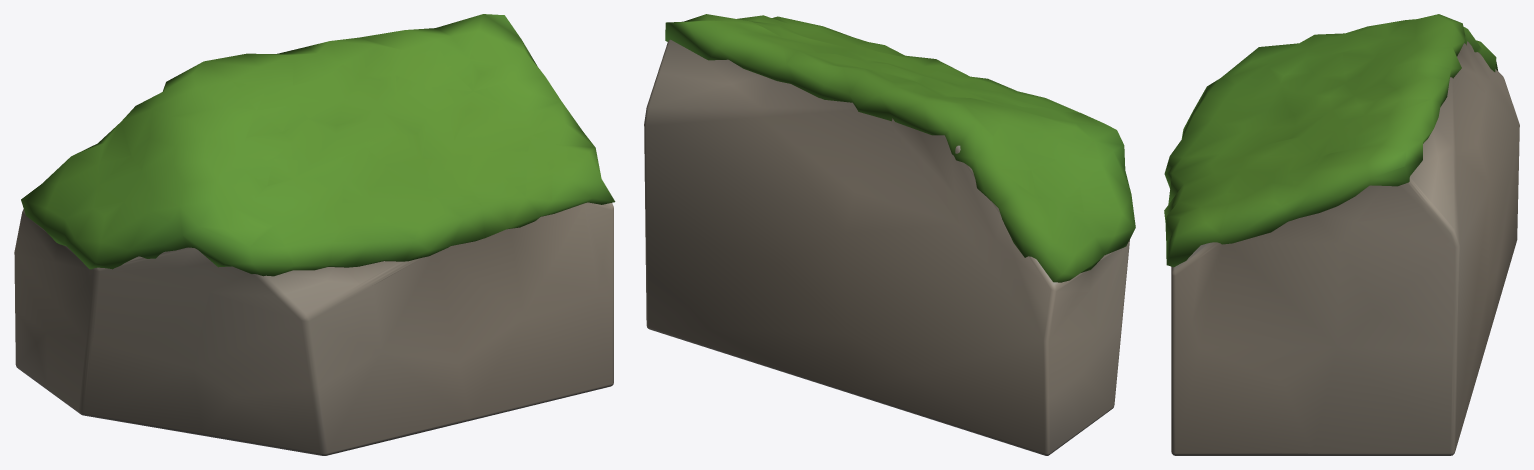
File: glade_pebble_boulder_a.glb
3 renders of one model, left to right at view 1: azimuth 30°, elevation 25°; view 2: azimuth 150°, elevation 25°; view 3: azimuth 270°, elevation 25°, orthographic. The views are drawn at different scales.
Parts seen in each view (by area): view 1: glade_pebble_boulder_a, moss; view 2: glade_pebble_boulder_a, moss; view 3: glade_pebble_boulder_a, moss.
Part boxes in pixels (<box>): glade_pebble_boulder_a: <box>14,202,613,455</box>; moss: <box>21,14,615,276</box>; glade_pebble_boulder_a: <box>644,39,1129,455</box>; moss: <box>665,14,1135,282</box>; glade_pebble_boulder_a: <box>1171,41,1519,455</box>; moss: <box>1164,14,1497,267</box>.
Bounding box in the file's own units: 7.54 × 4.75 × 5.11.
